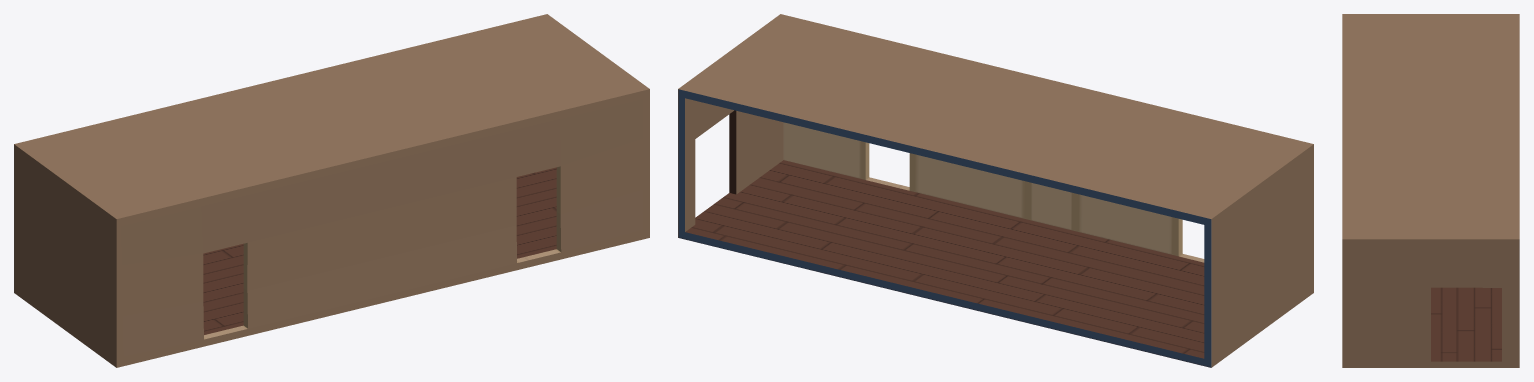
File: Hallway3UP_2Doors_LEFT.fbx
The picture shows the model from 3 angles, left to right: view 1: azimuth 30°, elevation 25°; view 2: azimuth 150°, elevation 25°; view 3: azimuth 270°, elevation 25°; orthographic projection. The views are drawn at different scales.
Parts seen in each view (by area): view 1: up3_2doors_LEFT; view 2: up3_2doors_LEFT; view 3: up3_2doors_LEFT.
Part boxes in pixels (<box>): up3_2doors_LEFT: <box>14,14,649,367</box>; up3_2doors_LEFT: <box>678,14,1313,367</box>; up3_2doors_LEFT: <box>1342,14,1519,367</box>.
Bounding box in the file's own units: 1501 × 400 × 500.
